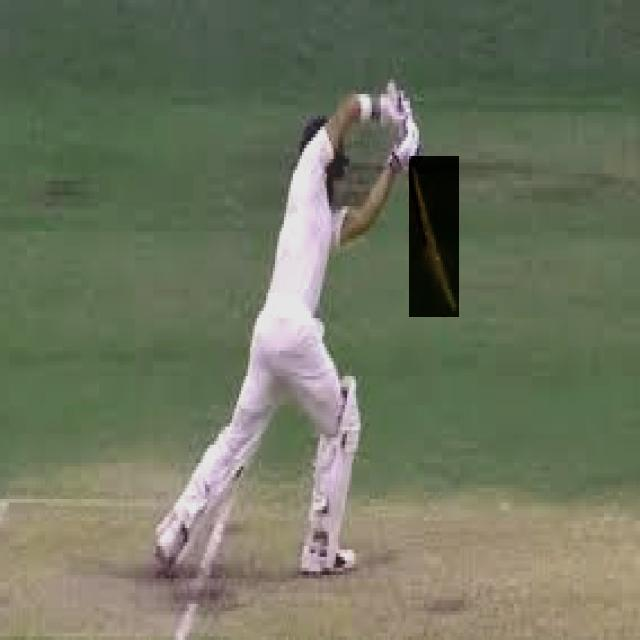bat: (410, 156, 460, 315)
